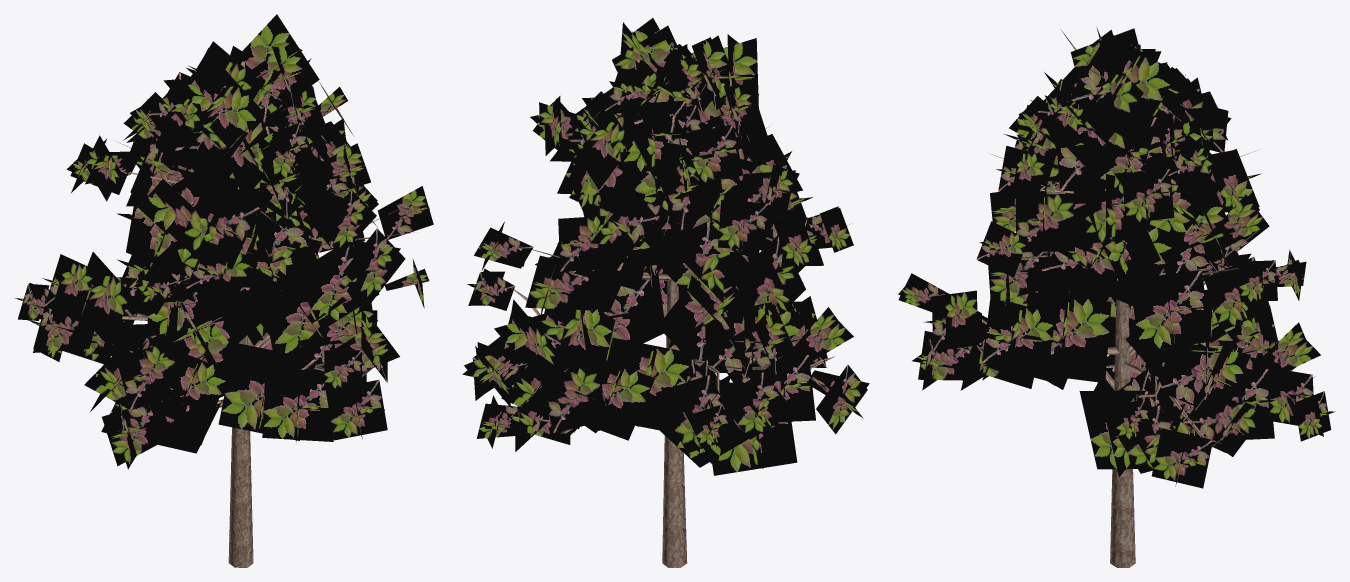
The model's file is tree2_LOD1.fbx.
The picture shows the model from 3 angles, left to right: view 1: azimuth 30°, elevation 25°; view 2: azimuth 150°, elevation 25°; view 3: azimuth 270°, elevation 25°; orthographic projection.
Visible parts, largest first — view 1: branch03_2, bark02_0; view 2: branch03_2, bark02_0; view 3: branch03_2, bark02_0.
Part boxes in pixels (<box>): branch03_2: <box>14,14,433,469</box>; bark02_0: <box>114,61,413,567</box>; branch03_2: <box>462,18,869,475</box>; bark02_0: <box>510,120,835,567</box>; branch03_2: <box>898,27,1334,488</box>; bark02_0: <box>930,149,1315,567</box>.
Size of the model in its own units: 729 by 1045 by 768.
